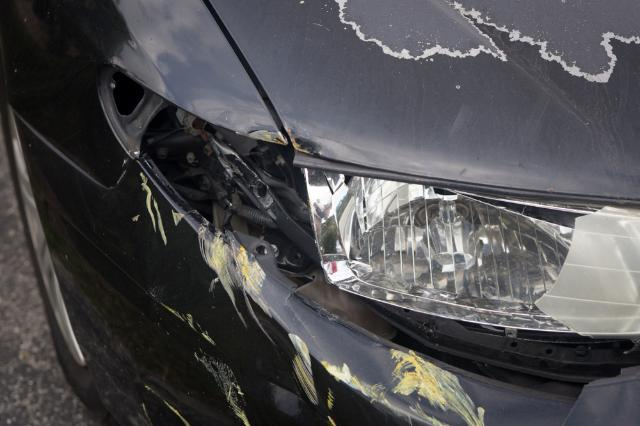lamp broken: (302, 166, 640, 341)
rub: (134, 175, 492, 426)
